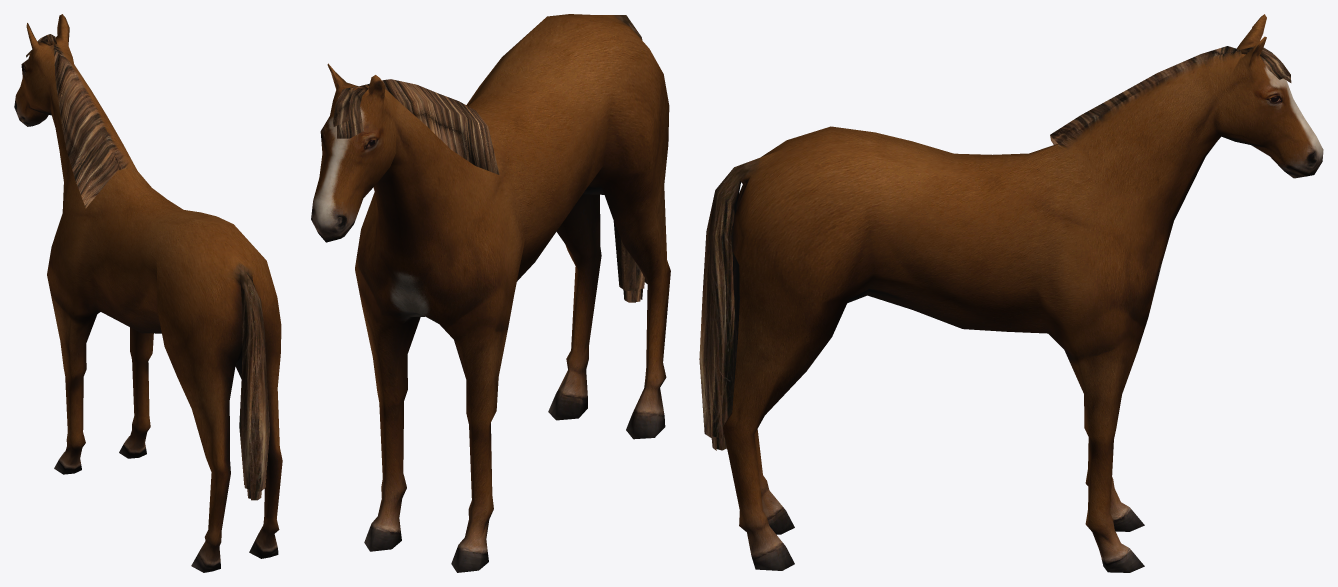
The model's file is Horse_type_02_FBX.FBX.
3 views of the same model, side by side, from view 1: azimuth 30°, elevation 25°; view 2: azimuth 150°, elevation 25°; view 3: azimuth 270°, elevation 25° (orthographic). The views are drawn at different scales.
Parts seen in each view (by area): view 1: Horse_type_02; view 2: Horse_type_02; view 3: Horse_type_02.
Boxes of the visible parts, x1,y1,x2,y2 form: Horse_type_02: (14,14,282,572); Horse_type_02: (311,14,670,572); Horse_type_02: (699,14,1323,572).
Size of the model in its own units: 65.66 by 231 by 251.
